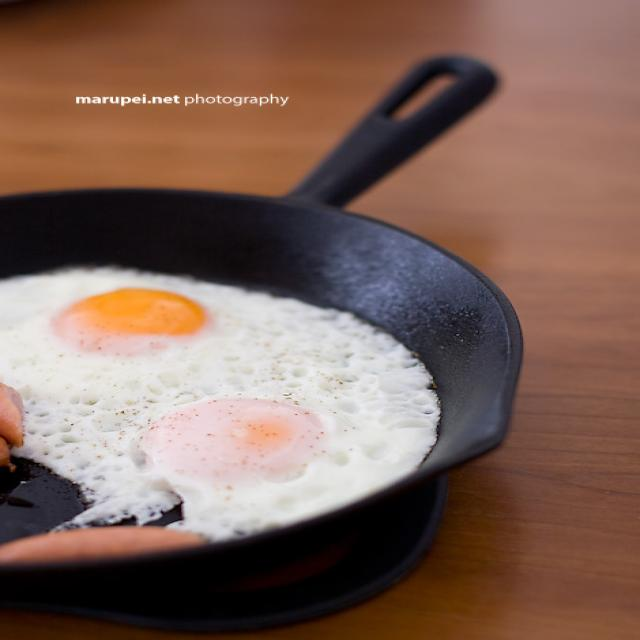鸡蛋料理: (0, 238, 449, 604)
